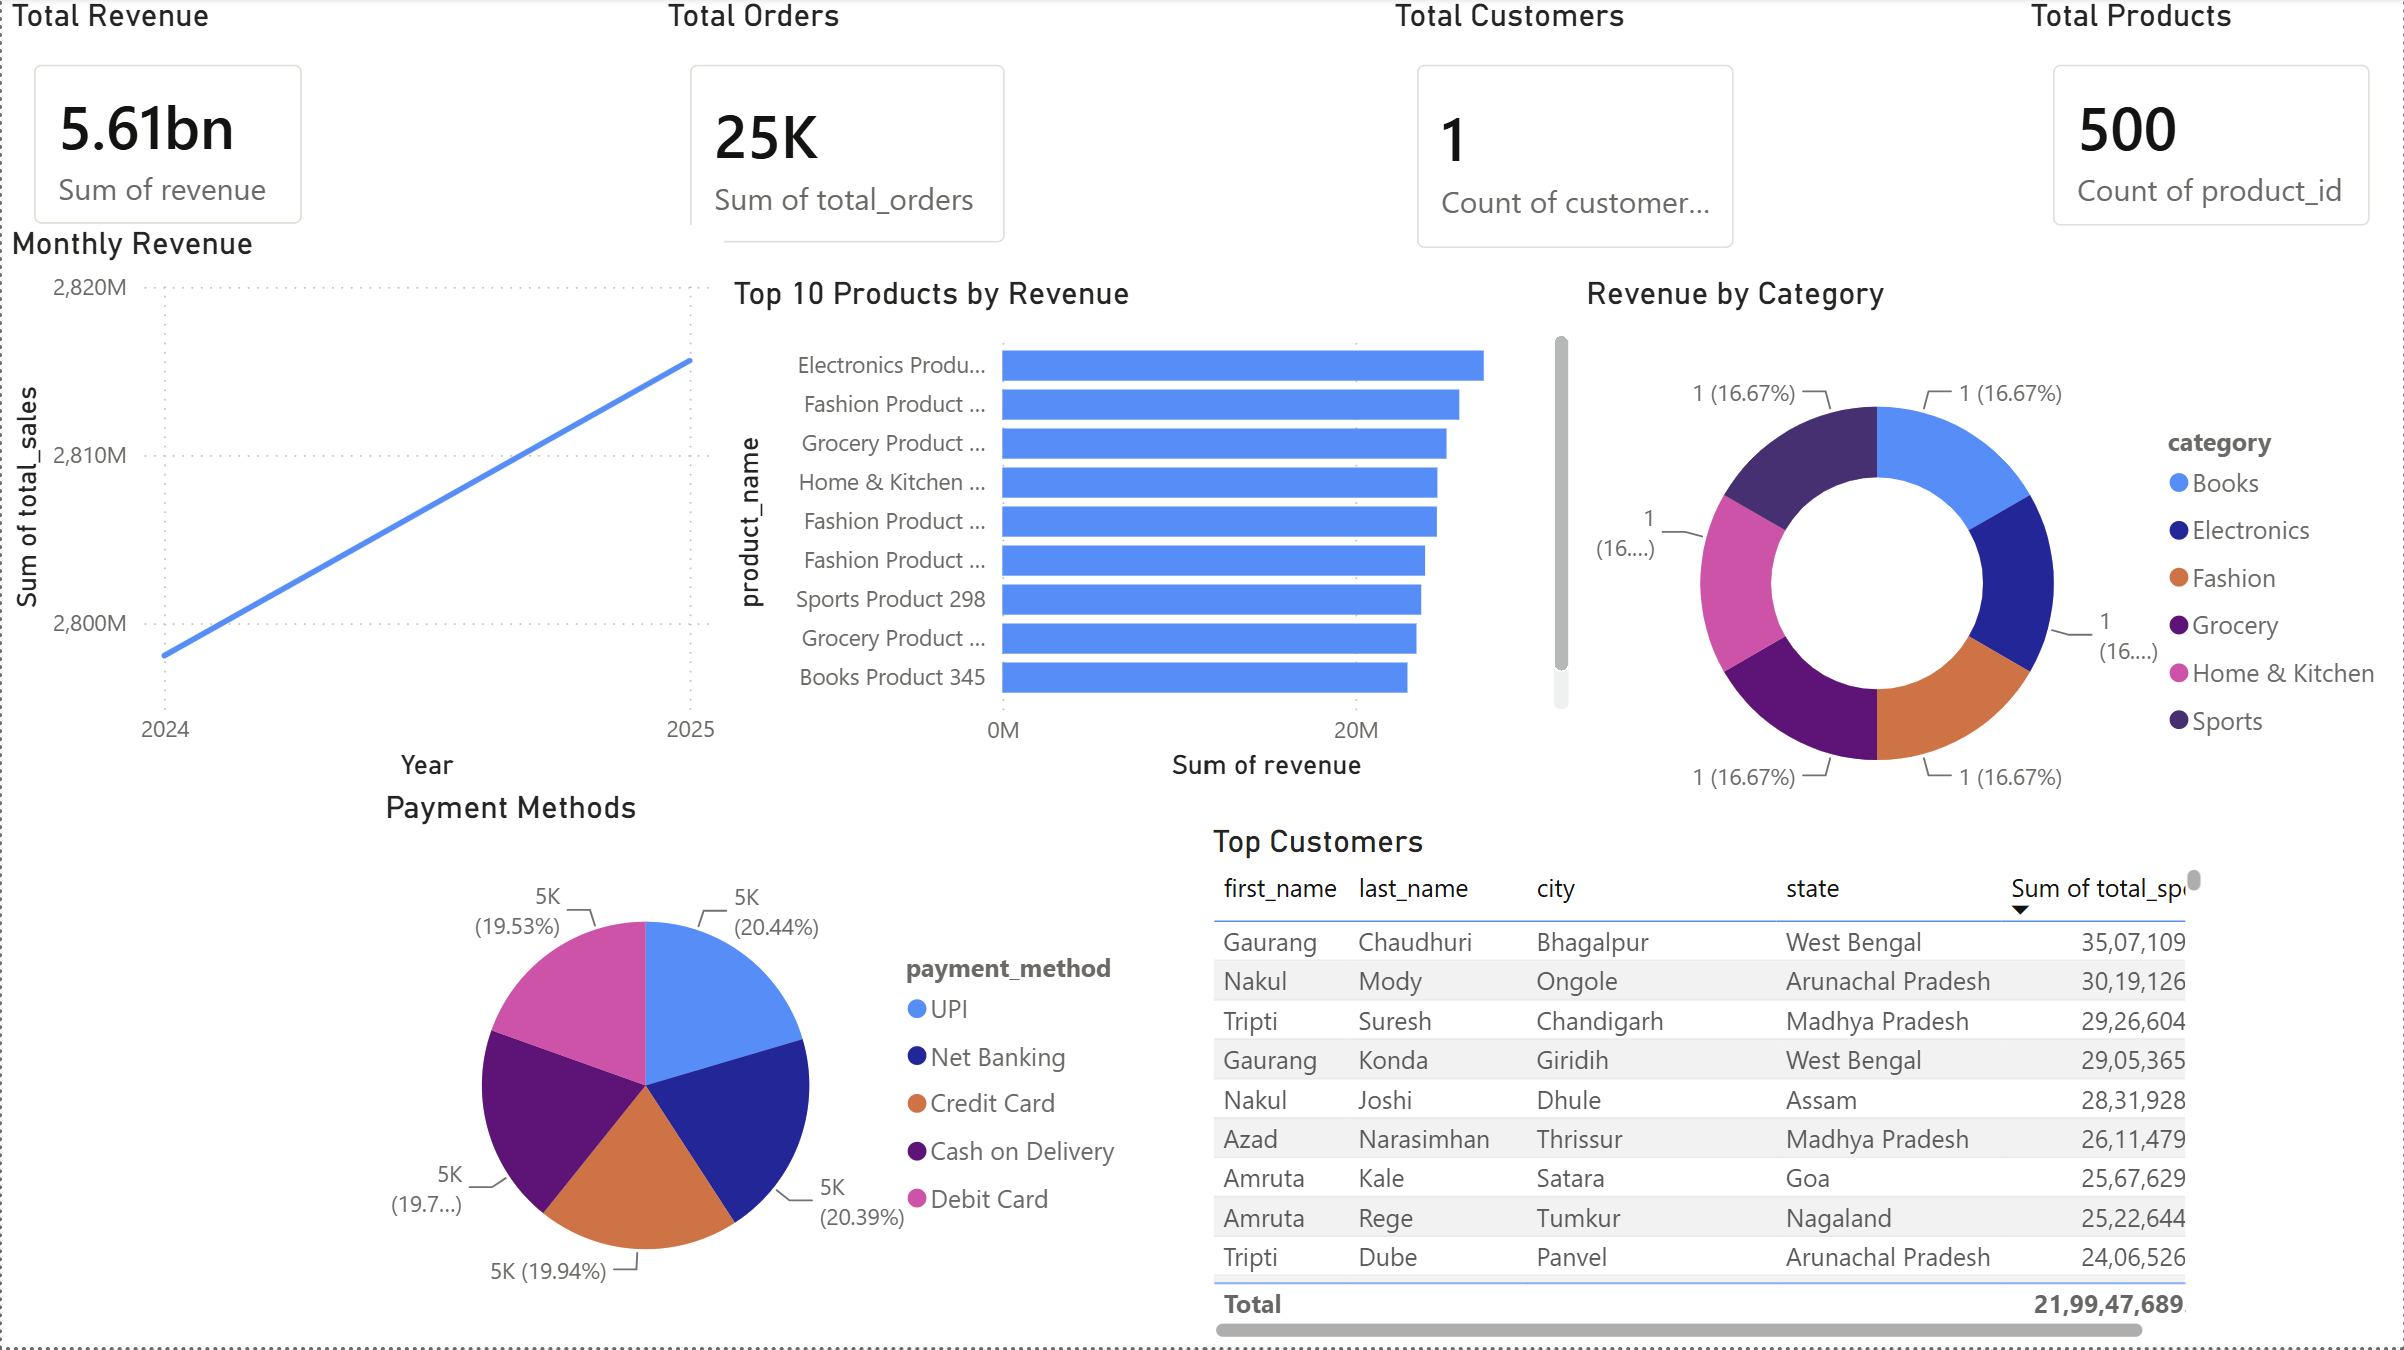

This screenshot's page, from the dashboard's own definition file:
{"tool":"powerbi","page":{"name":"Executive Dashboard","canvas":[1280,720],"ordinal":0},"visuals":[{"type":"cardVisual","title":"Total Revenue","fields":{"Data":["Sum(public vw_top_products.revenue)"]},"box":[0,0,177.2,139],"z":0},{"type":"cardVisual","title":"Total Orders","fields":{"Data":["Sum(public vw_monthly_sales.total_orders)"]},"box":[350.2,0,202.8,148.6],"z":1},{"type":"cardVisual","title":"Total Customers","fields":{"Data":["Count(public vw_top_customers.customer_id)"]},"box":[737.1,0,203.4,151.9],"z":2},{"type":"cardVisual","title":"Total Products","fields":{"Data":["Count(public vw_top_products.product_id)"]},"box":[1076,0,203.9,139.4],"z":3},{"type":"lineChart","title":"Monthly Revenue","fields":{"Category":["public vw_monthly_sales.month.Variation.Date Hierarchy.Year","public vw_monthly_sales.month.Variation.Date Hierarchy.Quarter","public vw_monthly_sales.month.Variation.Date Hierarchy.Month","public vw_monthly_sales.month.Variation.Date Hierarchy.Day"],"Y":["Sum(public vw_monthly_sales.total_sales)"]},"box":[0,122.1,384.8,300.7],"z":4},{"type":"clusteredBarChart","title":"Top 10 Products by Revenue","fields":{"Category":["public vw_top_products.product_name"],"Y":["Sum(public vw_top_products.revenue)"]},"box":[384.8,148.6,455,274.2],"z":5},{"type":"donutChart","title":"Revenue by Category","fields":{"Category":["public vw_category_sales.category"],"Y":["CountNonNull(public vw_category_sales.revenue)"]},"box":[839.8,148.6,440.1,309.9],"z":6},{"type":"pieChart","title":"Payment Methods","fields":{"Category":["public vw_payment_distribution.payment_method"],"Y":["Sum(public vw_payment_distribution.total_orders)"]},"box":[199.3,422.8,413.6,297.2],"z":7},{"type":"tableEx","title":"Top Customers","fields":{"Values":["public vw_top_customers.first_name","public vw_top_customers.last_name","public vw_top_customers.city","public vw_top_customers.state","Sum(public vw_top_customers.total_spent)"]},"box":[640.5,440.1,538,279.9],"z":8}]}

Visuals, with their boxes in screenshot pixels (x1, y1, x2, y2), scaled from the page's 1280x720 canvas onto the 2404x1350 screenshot:
"Total Revenue" cardVisual: [left=0, top=0, right=333, bottom=261]
"Total Orders" cardVisual: [left=658, top=0, right=1039, bottom=279]
"Total Customers" cardVisual: [left=1384, top=0, right=1766, bottom=285]
"Total Products" cardVisual: [left=2021, top=0, right=2403, bottom=261]
"Monthly Revenue" lineChart: [left=0, top=229, right=723, bottom=793]
"Top 10 Products by Revenue" clusteredBarChart: [left=723, top=279, right=1577, bottom=793]
"Revenue by Category" donutChart: [left=1577, top=279, right=2403, bottom=860]
"Payment Methods" pieChart: [left=374, top=793, right=1151, bottom=1349]
"Top Customers" tableEx: [left=1203, top=825, right=2213, bottom=1349]
